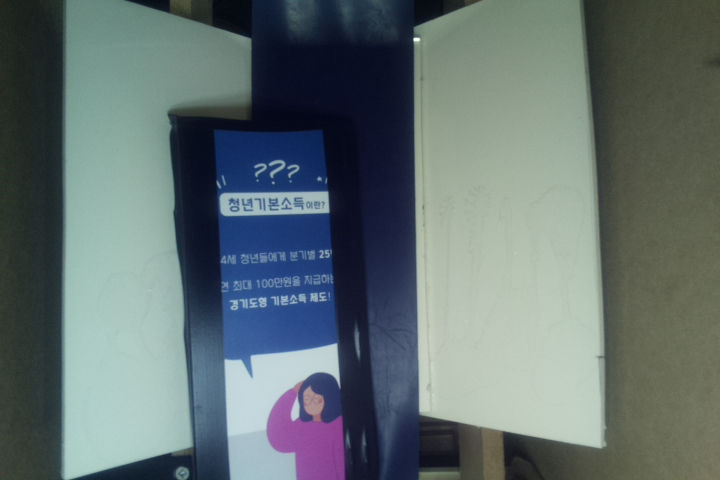book: (164, 111, 382, 480)
